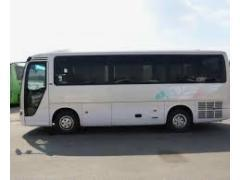bus: (19, 47, 226, 131)
